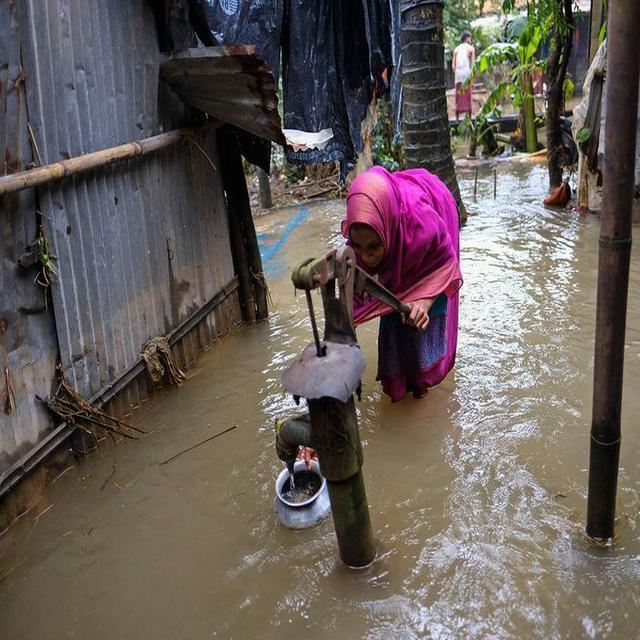Person-RiskLevel2: (326, 161, 466, 403)
